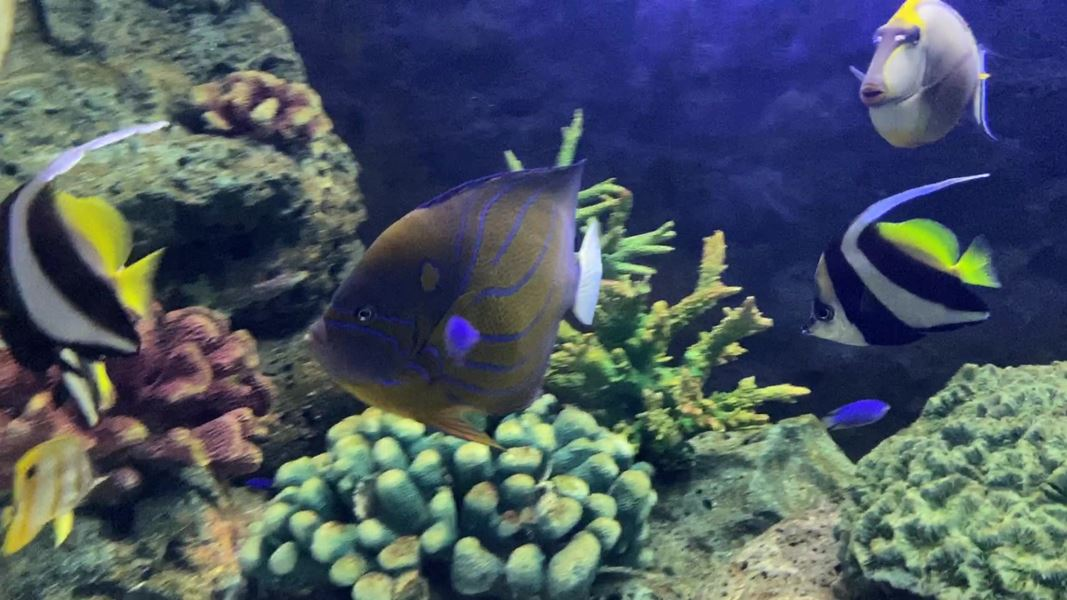Blue ring angelfish: (290, 145, 623, 457)
